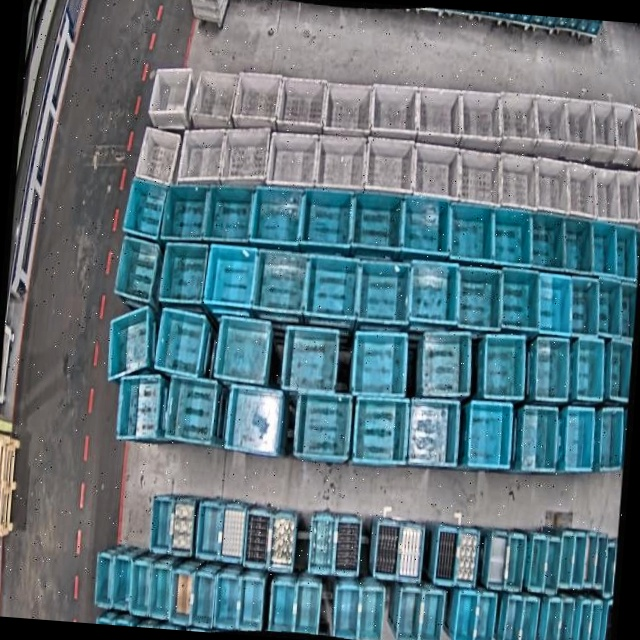Box: (211, 314, 274, 387), (416, 328, 474, 403), (292, 391, 353, 462), (350, 327, 411, 398), (352, 394, 411, 467), (164, 371, 221, 446), (223, 385, 284, 455), (104, 302, 154, 387), (280, 324, 339, 395), (251, 248, 310, 317), (152, 308, 209, 379), (156, 237, 210, 310), (355, 260, 415, 325), (113, 371, 166, 444), (350, 188, 406, 257), (202, 243, 259, 310), (407, 398, 461, 468), (303, 256, 361, 321), (299, 185, 355, 250), (157, 181, 212, 247), (409, 259, 461, 327), (175, 126, 228, 192), (453, 264, 504, 332), (250, 184, 305, 247), (399, 196, 453, 260), (478, 333, 528, 402), (113, 235, 162, 305), (220, 124, 271, 191), (466, 400, 514, 471), (203, 183, 256, 247), (230, 70, 284, 132), (120, 177, 169, 243), (266, 132, 320, 191), (188, 67, 238, 130), (276, 74, 327, 135), (448, 200, 497, 263), (497, 268, 543, 335), (365, 136, 417, 195), (316, 131, 367, 191), (133, 126, 182, 187), (415, 84, 463, 146), (322, 78, 374, 135), (413, 143, 462, 203), (458, 89, 504, 150), (370, 80, 420, 136), (497, 90, 540, 155), (518, 407, 559, 474), (457, 147, 503, 206), (149, 67, 192, 130), (531, 335, 571, 402), (536, 274, 575, 338), (496, 156, 540, 211), (571, 337, 607, 404), (491, 208, 533, 265), (561, 406, 596, 473), (528, 212, 568, 269), (532, 159, 574, 213), (562, 99, 597, 162), (534, 95, 569, 157), (595, 406, 626, 475), (565, 163, 601, 219), (590, 100, 622, 163), (562, 215, 596, 274), (267, 509, 298, 573), (589, 218, 622, 276), (610, 104, 640, 166), (333, 514, 362, 578), (569, 277, 601, 335), (195, 498, 223, 564), (170, 491, 198, 557), (372, 518, 402, 578), (307, 513, 336, 575), (433, 523, 461, 586), (606, 337, 633, 402), (595, 280, 625, 338), (219, 502, 247, 564), (236, 576, 266, 633), (242, 509, 270, 569), (149, 495, 176, 557), (213, 573, 241, 632), (397, 524, 425, 583), (455, 527, 482, 588), (592, 168, 623, 220), (502, 531, 527, 595), (333, 583, 361, 639), (395, 588, 425, 640), (612, 169, 640, 224), (357, 587, 386, 640), (293, 581, 322, 634), (613, 225, 640, 281), (268, 581, 296, 633), (190, 573, 216, 629), (168, 570, 194, 625), (484, 530, 508, 589), (149, 564, 173, 620), (541, 533, 562, 596), (91, 552, 114, 609), (454, 591, 480, 640), (420, 591, 446, 640), (556, 529, 576, 590), (129, 561, 151, 616), (111, 555, 133, 610), (617, 283, 638, 340), (473, 593, 498, 640), (527, 535, 546, 594), (600, 537, 618, 598), (580, 530, 597, 591), (502, 595, 525, 640), (570, 530, 586, 591), (518, 597, 540, 640), (543, 596, 563, 640), (555, 598, 575, 640), (591, 534, 607, 586), (575, 600, 593, 640), (586, 599, 603, 640), (630, 108, 640, 169), (601, 599, 613, 640)
